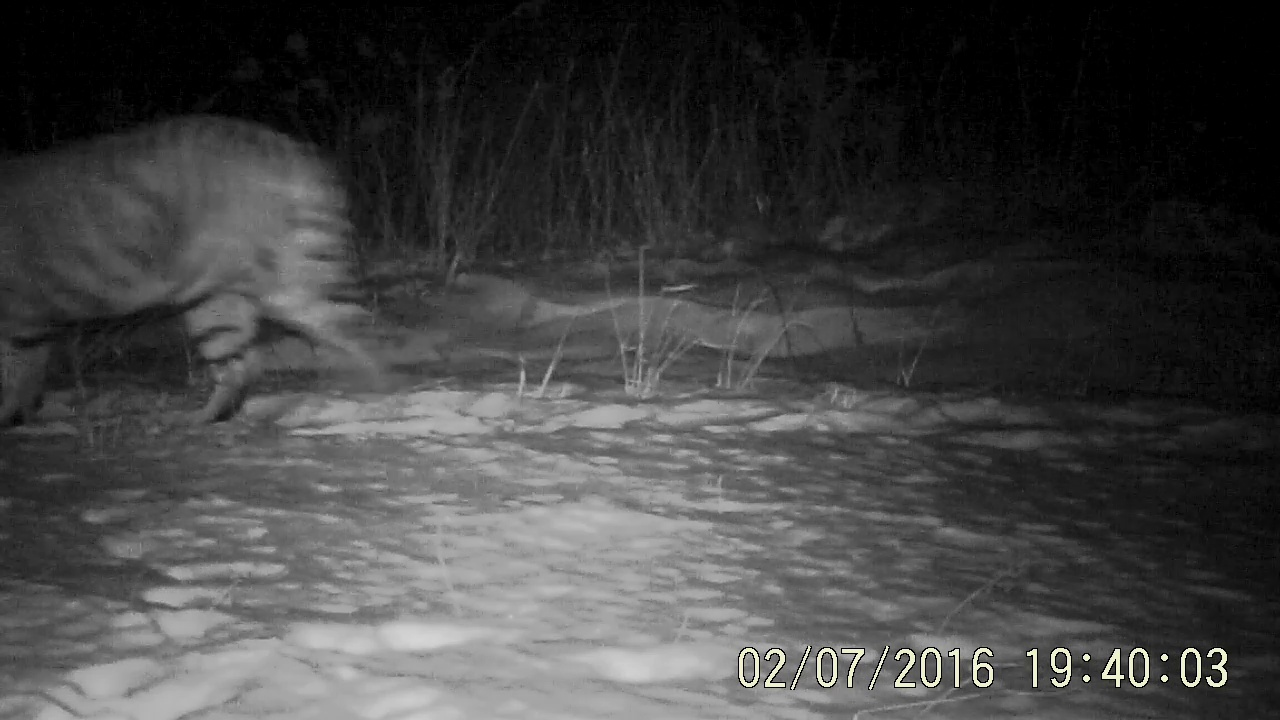Tiger: (1, 88, 506, 491)
